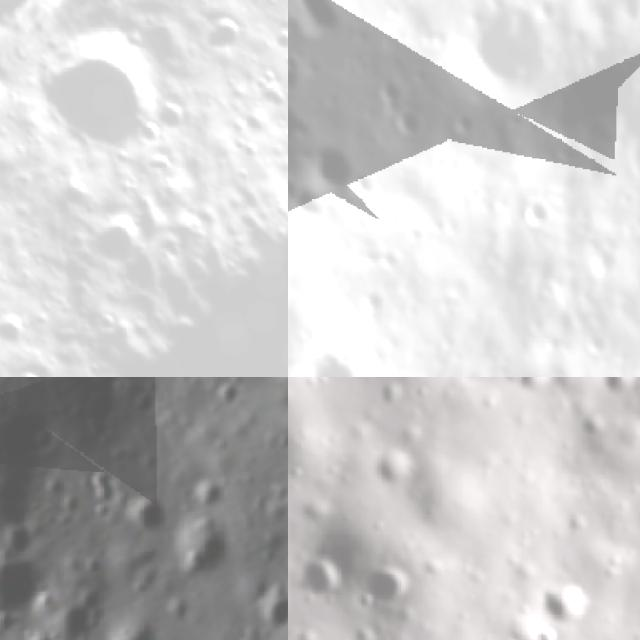crater: (50, 166, 288, 377), (5, 0, 216, 195), (177, 514, 237, 581), (0, 544, 50, 615), (288, 0, 356, 51), (296, 548, 358, 599), (59, 583, 114, 640), (300, 140, 362, 188), (288, 340, 367, 377), (358, 569, 424, 612), (366, 438, 416, 492), (252, 572, 288, 632), (123, 490, 171, 533), (542, 578, 582, 628), (12, 613, 68, 640), (507, 377, 564, 401), (374, 377, 412, 410), (394, 102, 426, 141), (370, 71, 404, 107), (529, 195, 565, 227), (578, 327, 610, 361), (591, 377, 636, 398), (375, 246, 399, 276), (288, 171, 302, 200)
